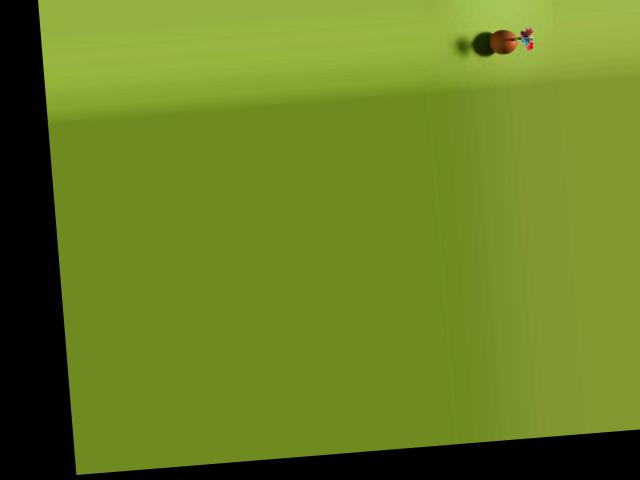egg: (488, 28, 518, 54)
